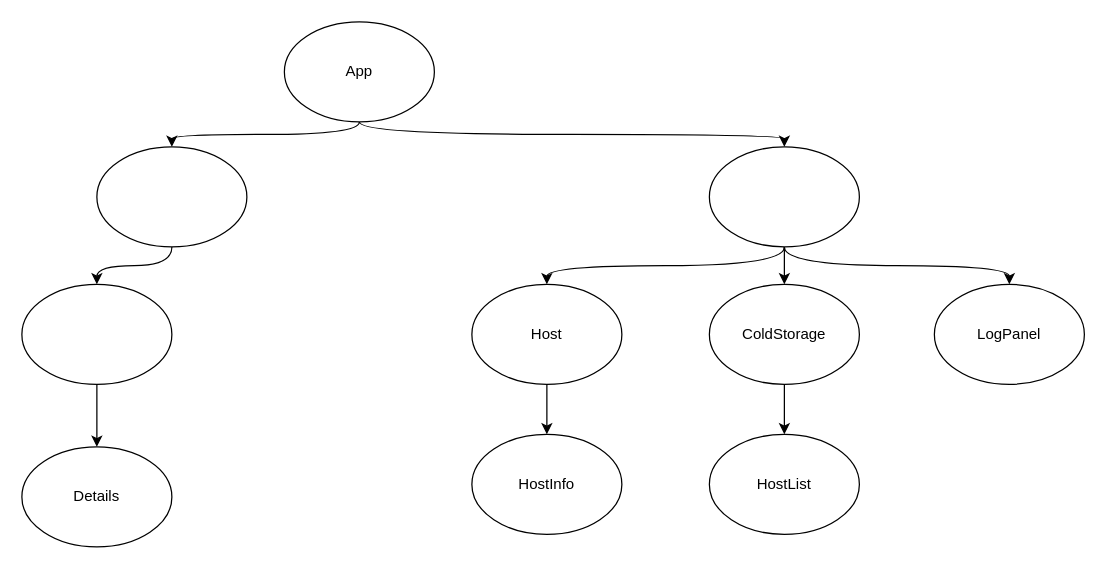
This 1106x569 diagram has some shape labels left out. Here are the shapes that lost their labels. From the top down, the centre of each, then its label:
At [171,196]: "WestWorldMap".
At [783,196]: "Headquarters".
At [96,333]: "Area".
